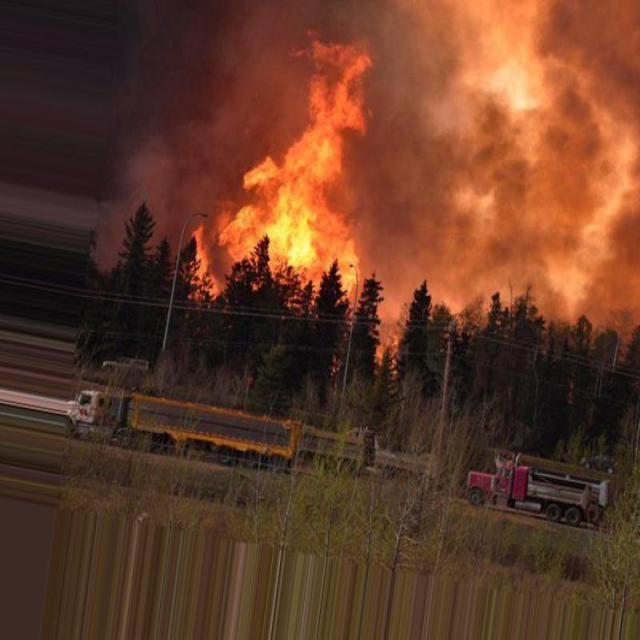fire: (186, 22, 378, 308)
